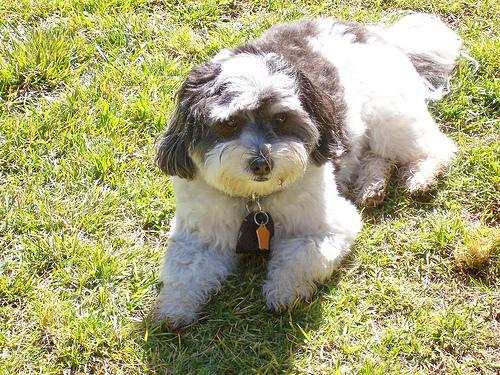dog-havanese: (154, 46, 341, 195)
